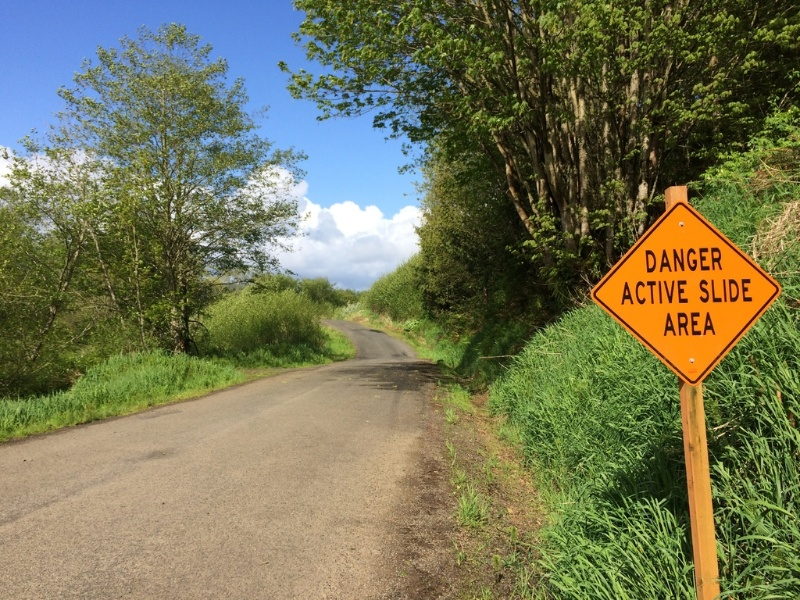warning: (582, 200, 782, 388), (586, 204, 785, 382)
